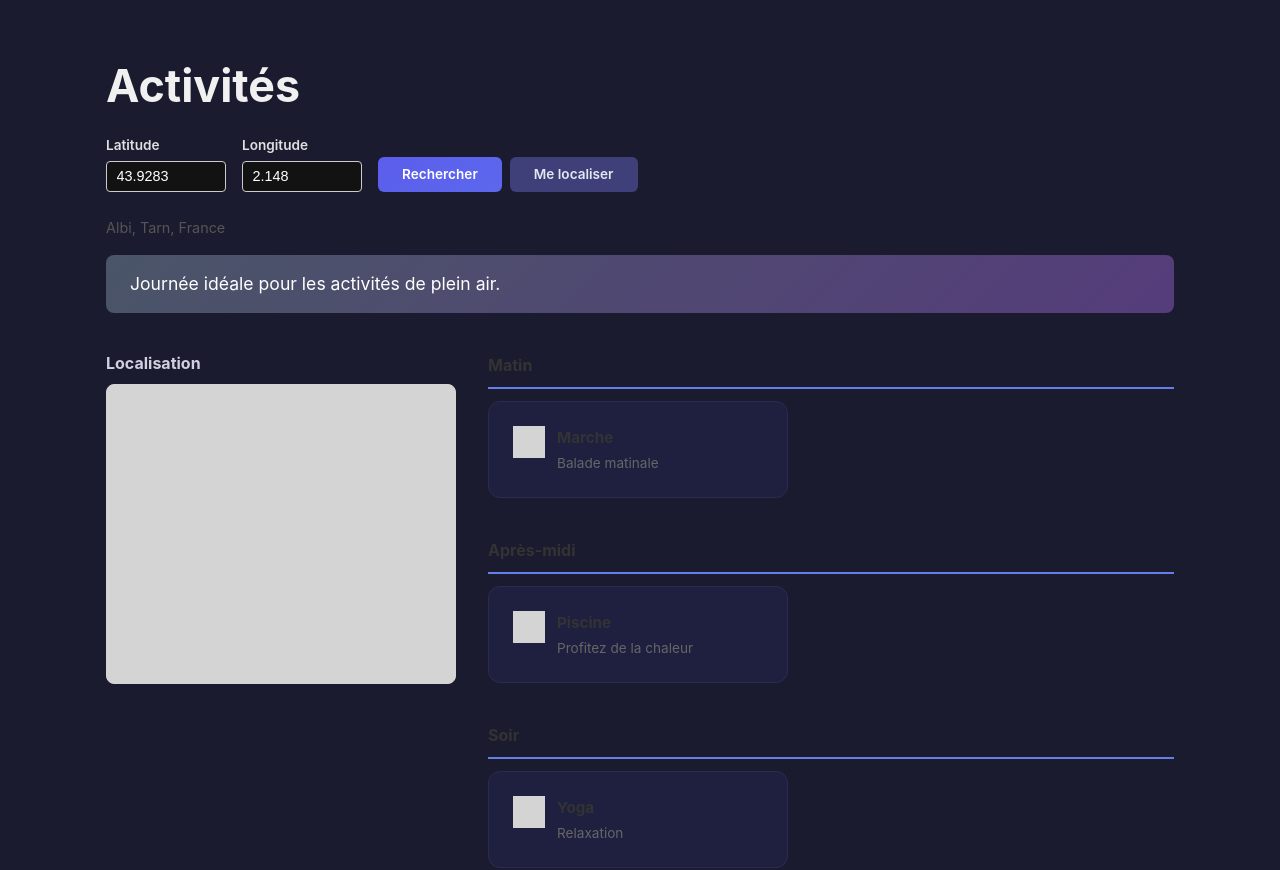
ActivitiesPage › handles missing geolocation support
This screenshot has width=1280, height=870.
Click the button "Me localiser".
click(574, 174)  # box [510,157,638,192]
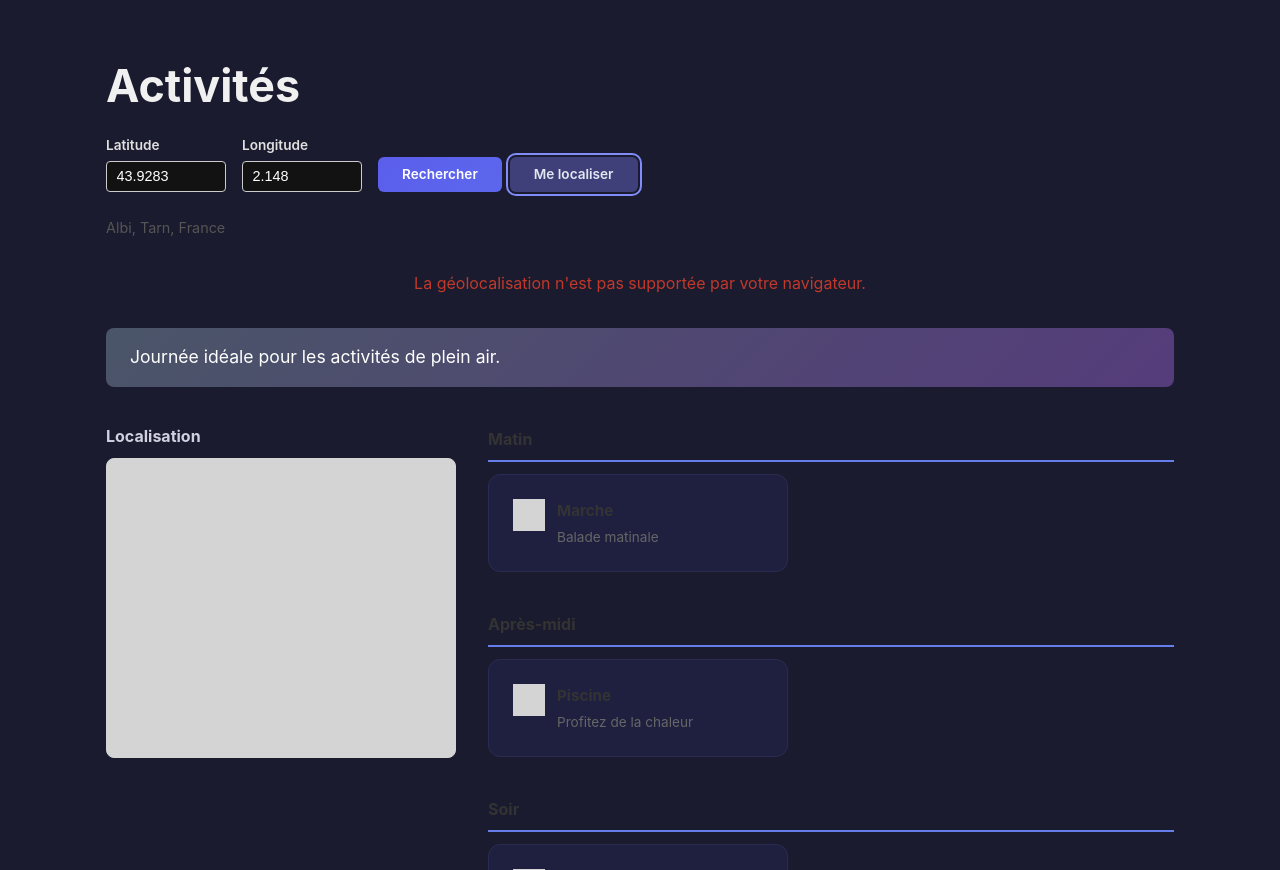
Result: the text "La géolocalisation n'est pas supportée par votre navigateur." is shown at [414,273,866,293]
